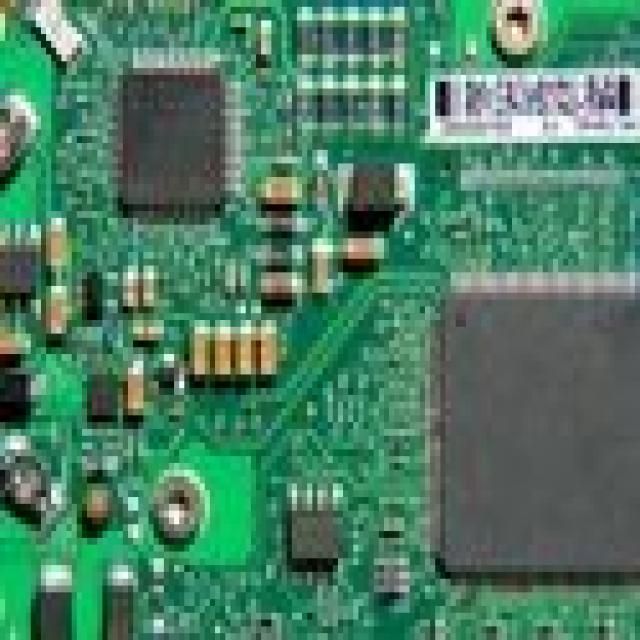pcb: (0, 0, 635, 633), (112, 54, 230, 218)
